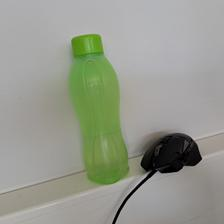bottle: (67, 32, 129, 184)
mouse: (140, 131, 203, 174)
